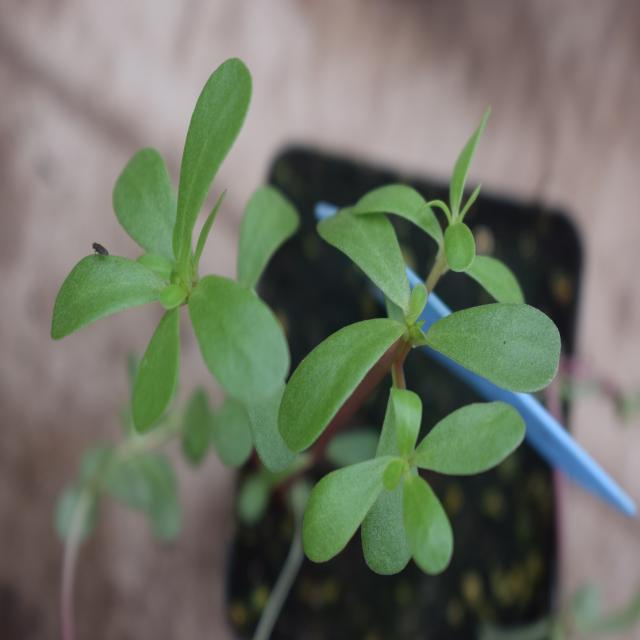purslane: (70, 34, 571, 591)
